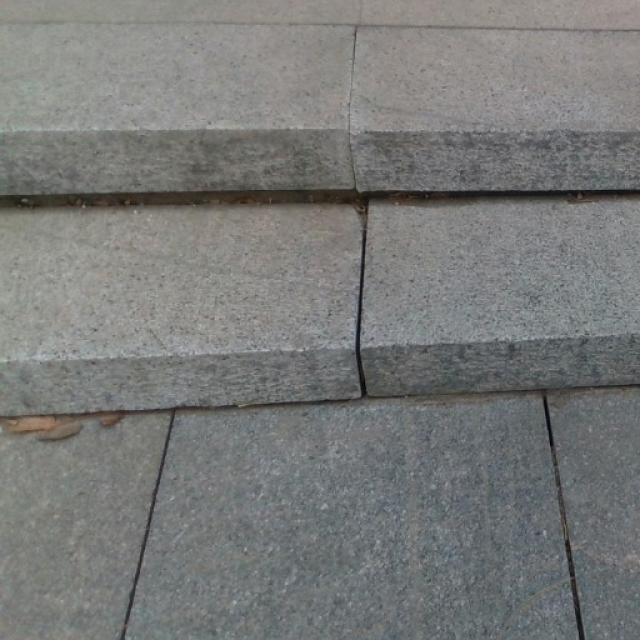Stairs: (0, 0, 639, 415)
